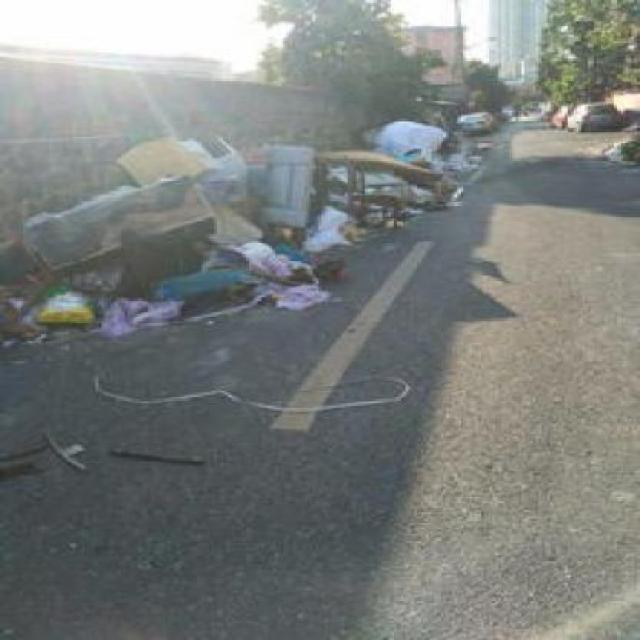garbage: (26, 226, 328, 324), (249, 127, 440, 246)
